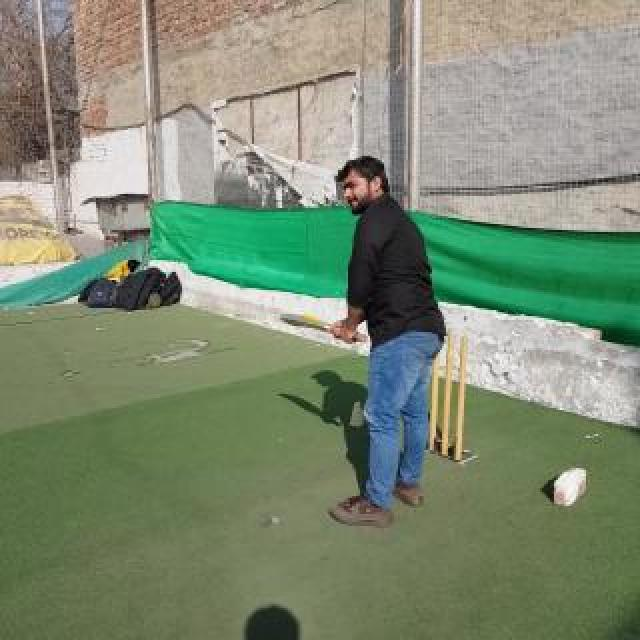bat: (278, 313, 368, 343)
